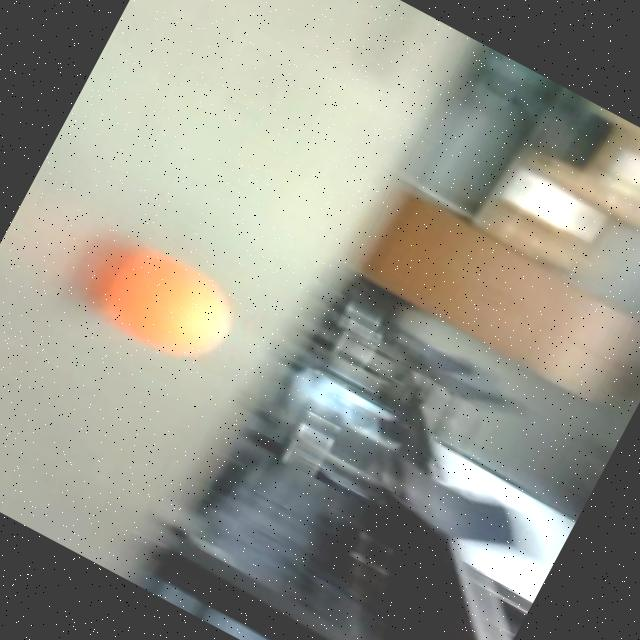ping-pong-ball: (75, 225, 248, 384)
